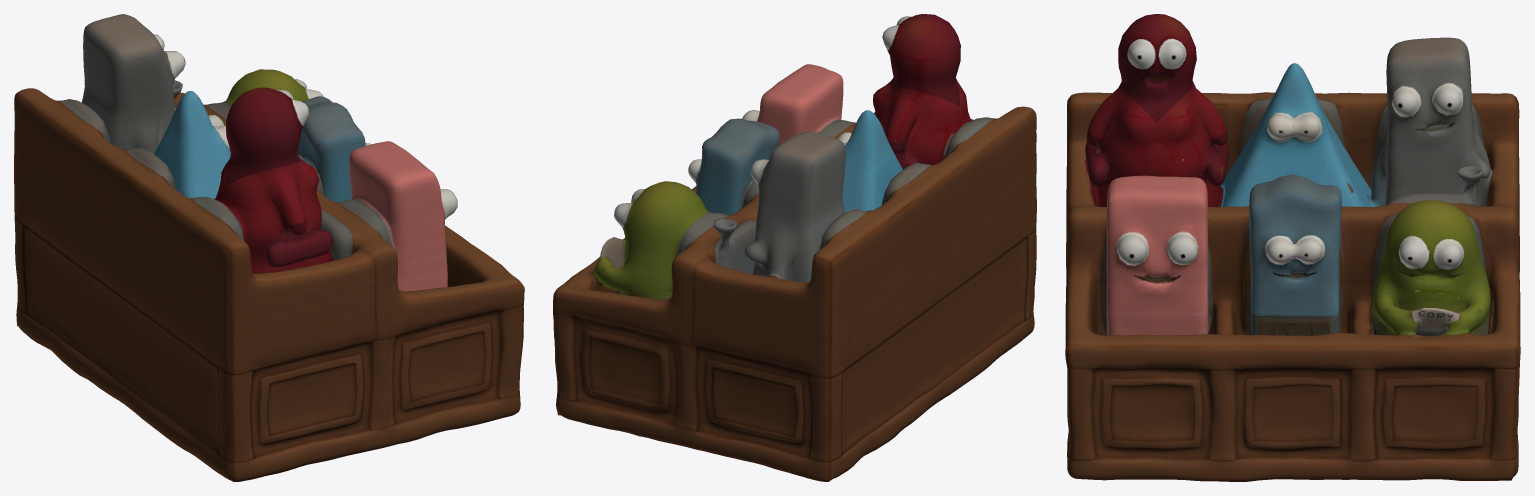
Rendered from cassette-jury.glb.
The picture shows the model from 3 angles, left to right: view 1: azimuth 30°, elevation 25°; view 2: azimuth 150°, elevation 25°; view 3: azimuth 270°, elevation 25°; orthographic projection. The views are drawn at different scales.
Visible parts, largest first — view 1: tripo_node_2690dd25-a808-4a66-b914-c68f313f8e0c; view 2: tripo_node_2690dd25-a808-4a66-b914-c68f313f8e0c; view 3: tripo_node_2690dd25-a808-4a66-b914-c68f313f8e0c.
Boxes of the visible parts, x1=… form: tripo_node_2690dd25-a808-4a66-b914-c68f313f8e0c: x1=14, y1=14, x2=524, y2=481; tripo_node_2690dd25-a808-4a66-b914-c68f313f8e0c: x1=553, y1=14, x2=1036, y2=481; tripo_node_2690dd25-a808-4a66-b914-c68f313f8e0c: x1=1065, y1=14, x2=1520, y2=481.
Size of the model in its own units: 0.7607 by 0.8459 by 0.9783.
Materials: 1 (1 with a texture image).
